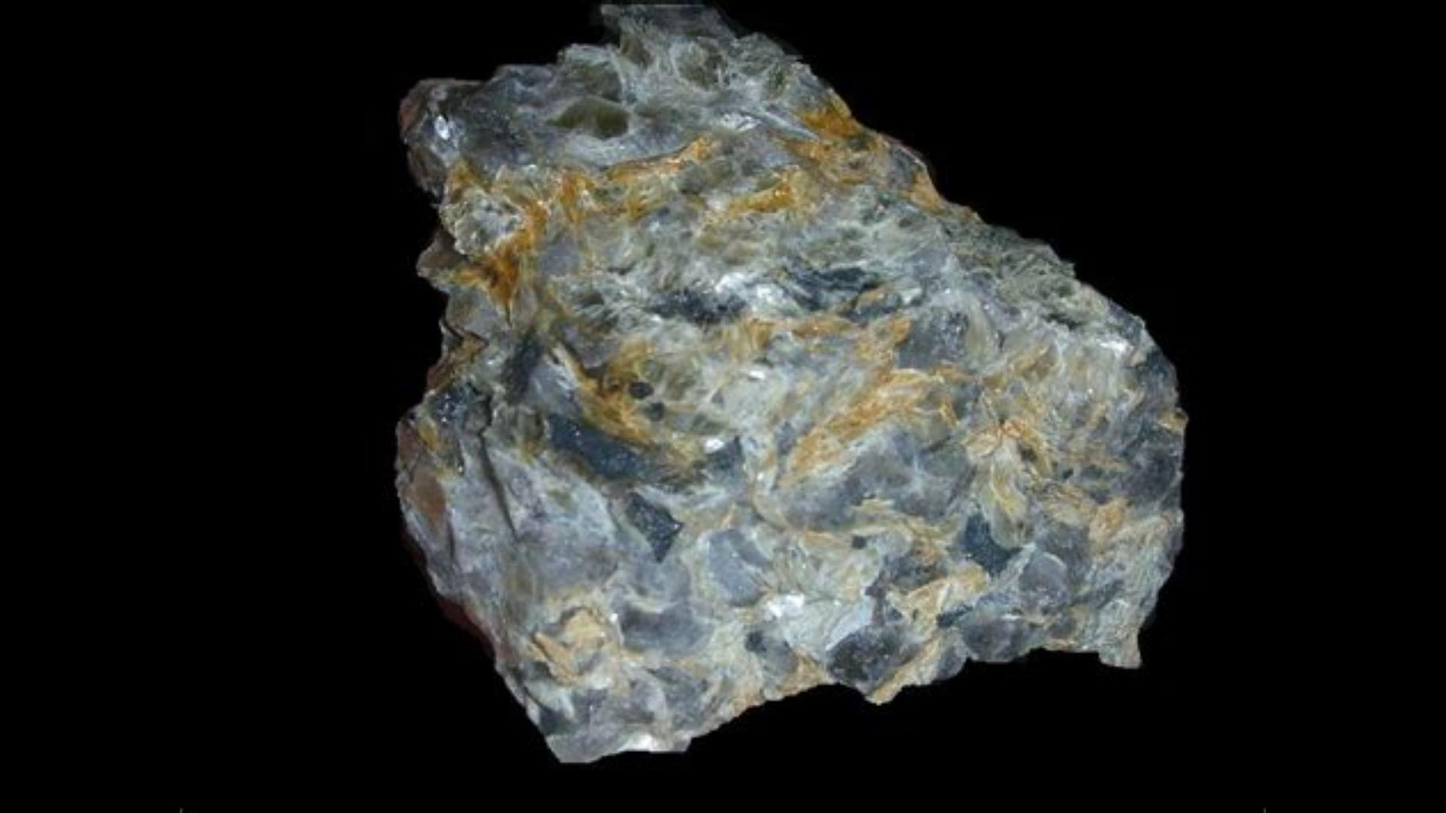rock: (400, 9, 1181, 756)
